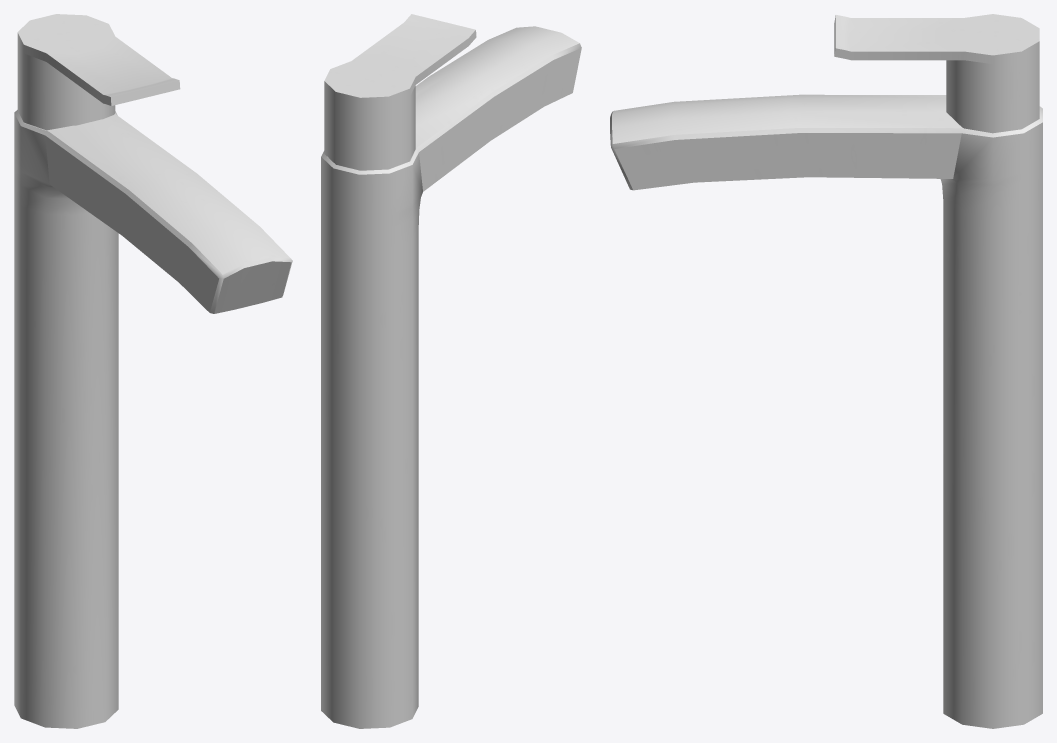
Rendered from BtR_SinkFaucet.fbx.
The picture shows the model from 3 angles, left to right: view 1: azimuth 30°, elevation 25°; view 2: azimuth 150°, elevation 25°; view 3: azimuth 270°, elevation 25°; orthographic projection. The views are drawn at different scales.
Parts seen in each view (by area): view 1: Sink Faucet; view 2: Sink Faucet; view 3: Sink Faucet.
Part boxes in pixels (left/top/right/bottom): Sink Faucet: left=14, top=14, right=292, bottom=728; Sink Faucet: left=321, top=14, right=581, bottom=728; Sink Faucet: left=610, top=14, right=1042, bottom=728.
Size of the model in its own units: 0.0149 by 0.1057 by 0.0614.
